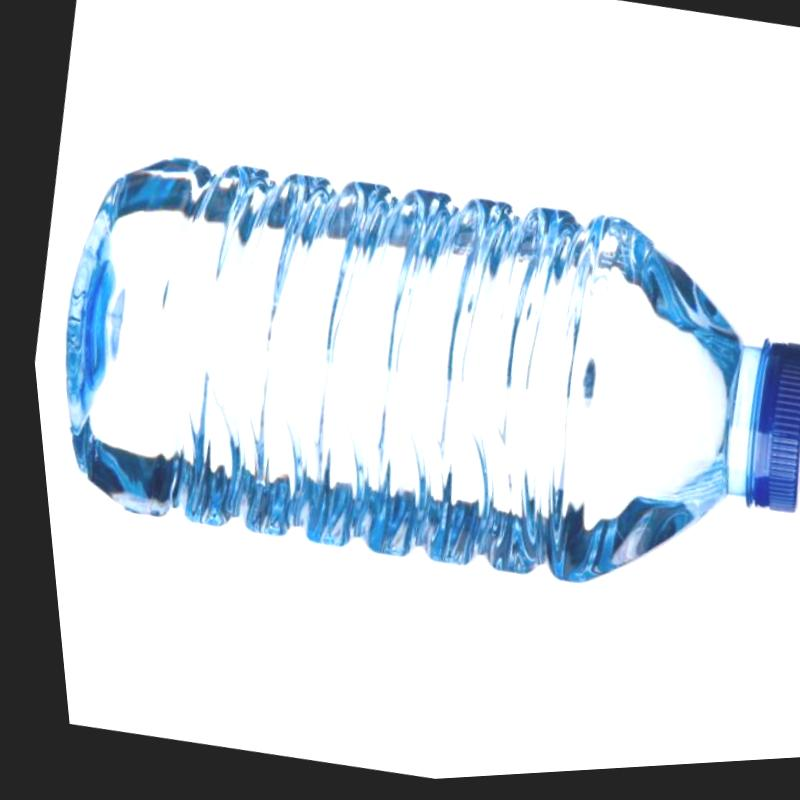botella: (10, 99, 800, 659)
